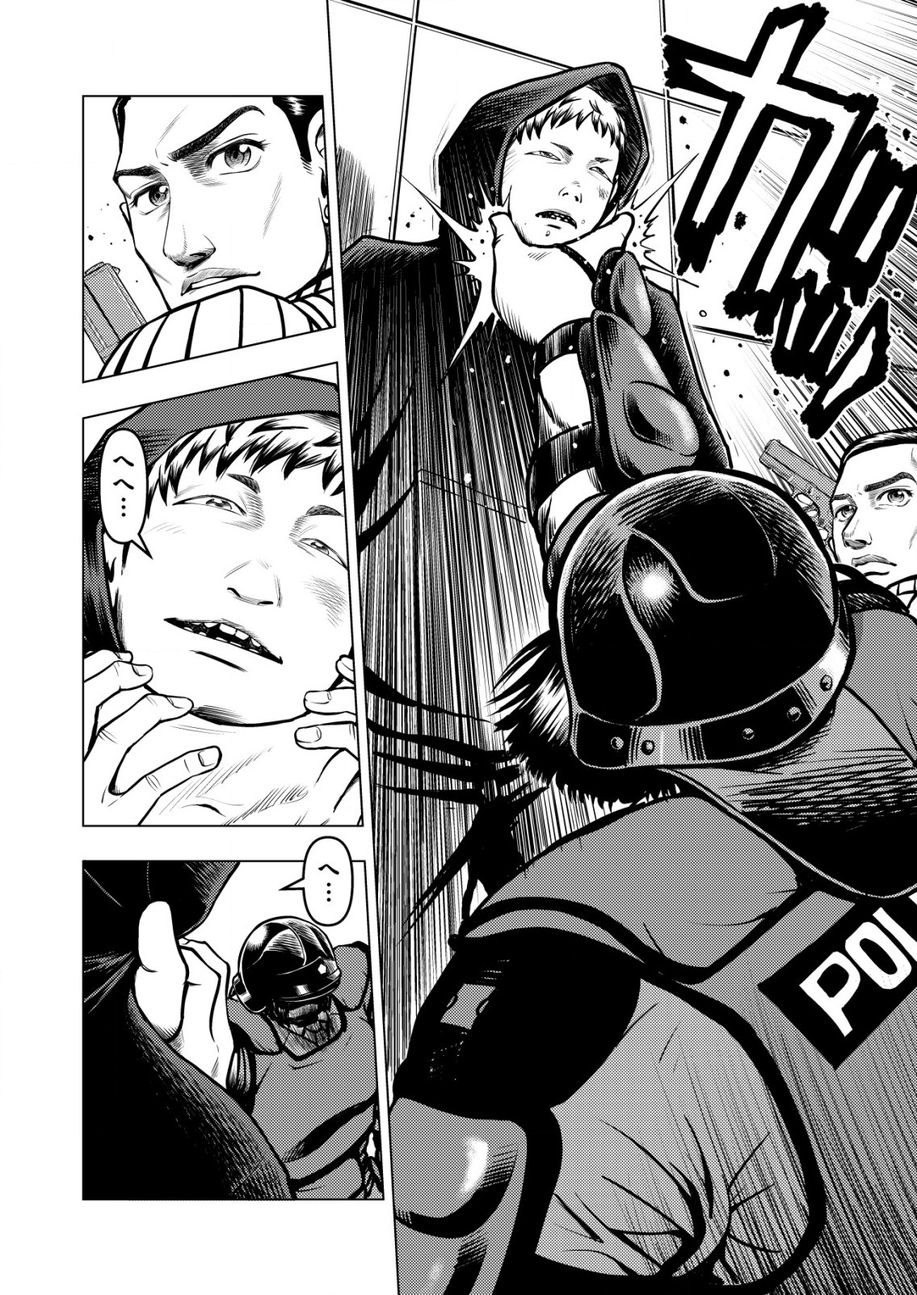bubbles: (94, 425, 158, 565), (272, 830, 354, 931)
